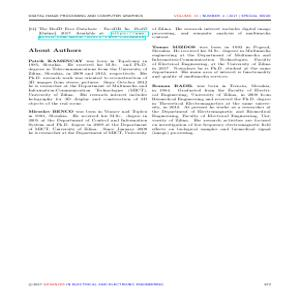text: (23, 23, 150, 139), (152, 24, 275, 138)
